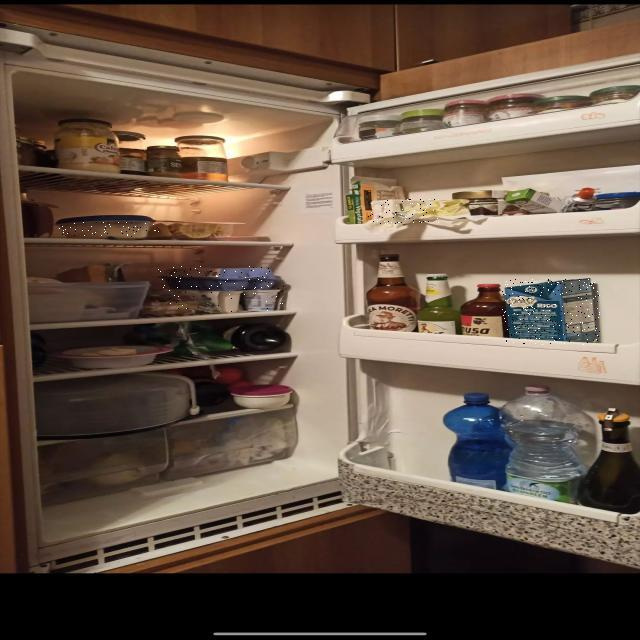butter: (368, 199, 439, 224)
cheese: (58, 222, 160, 238)
eggs: (158, 266, 274, 289)
milk: (502, 279, 600, 345)
yoghurt: (168, 286, 286, 312)
